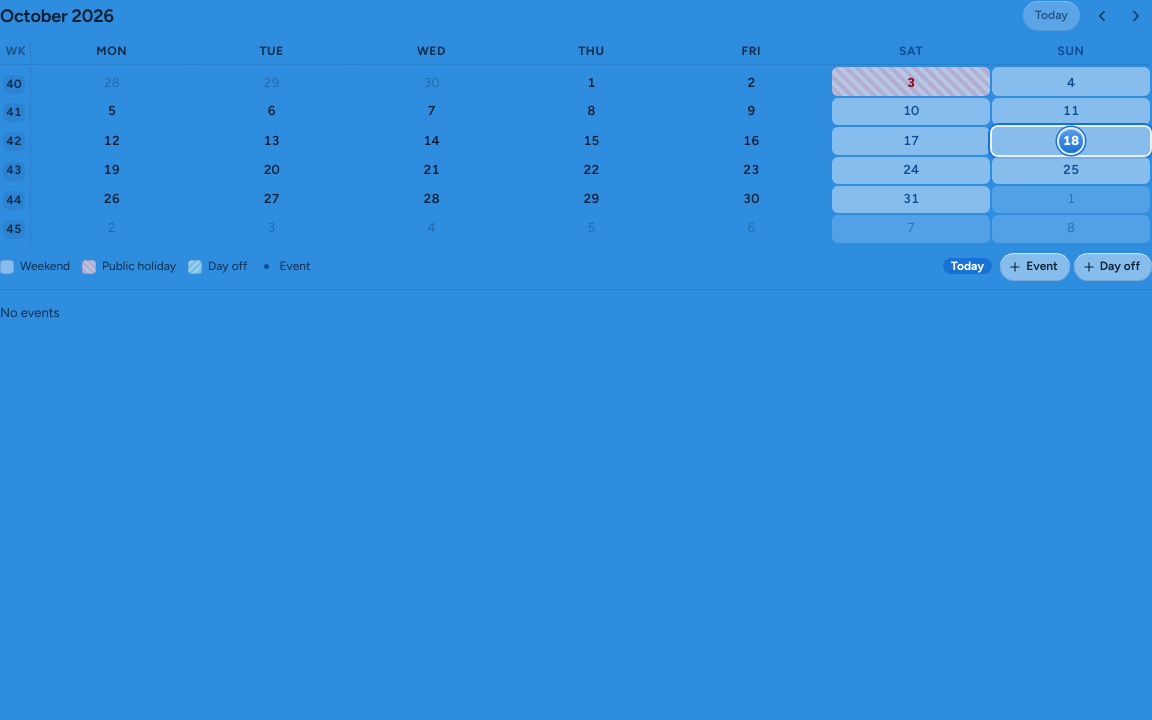
Test case: Kalender › legt per Enter einen Termin am gewählten Tag an
Press Arrowright Arrowright Arrowright {Ent
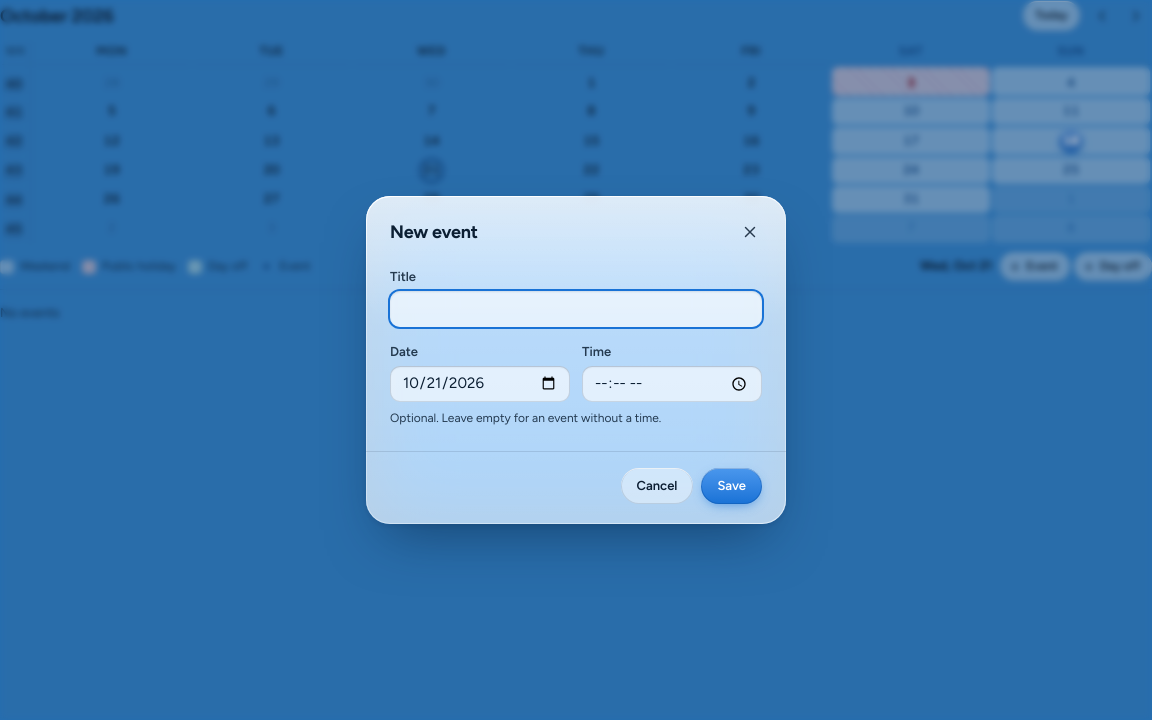
expect the date field labelled "Date" holds "2026-10-21": met, box [390, 366, 570, 402]
# Ohne Titel wird nicht gespeichert
Click the button "Save". click: click(732, 486)
box: [701, 468, 762, 504]
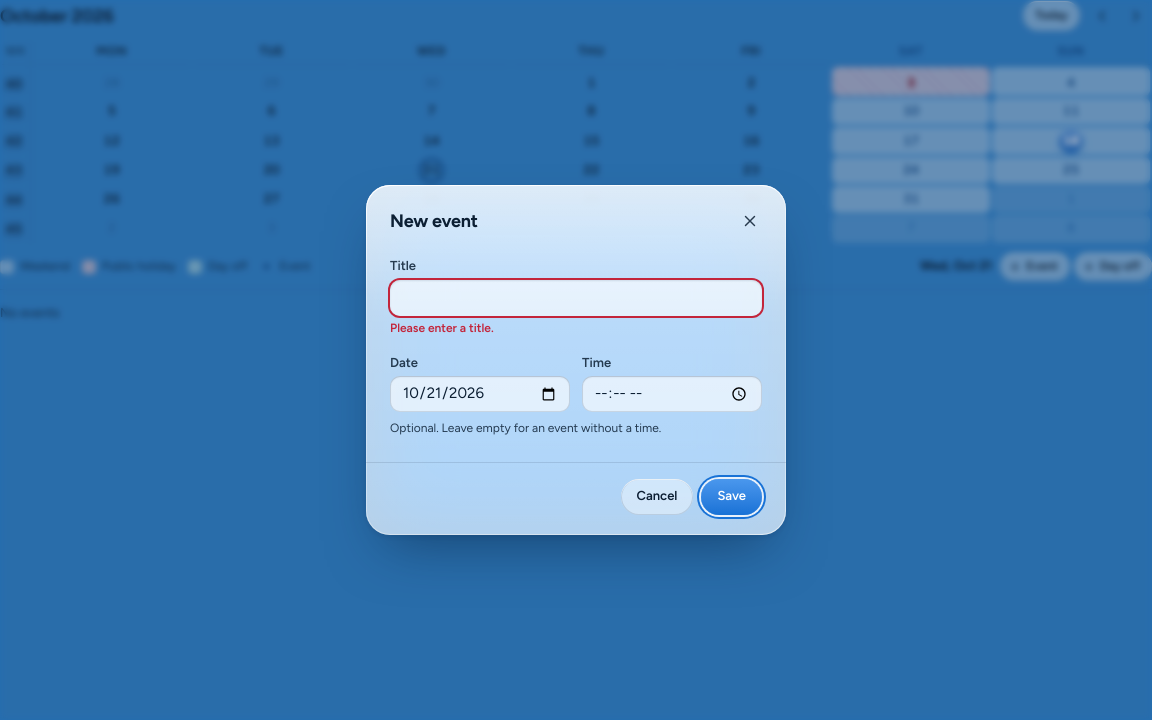
expect the text "Please enter a title." is shown: met, box [390, 321, 494, 335]
Type "Zahnarzt" into the field labelled "Title". click: (576, 298)
box: [390, 280, 762, 316]
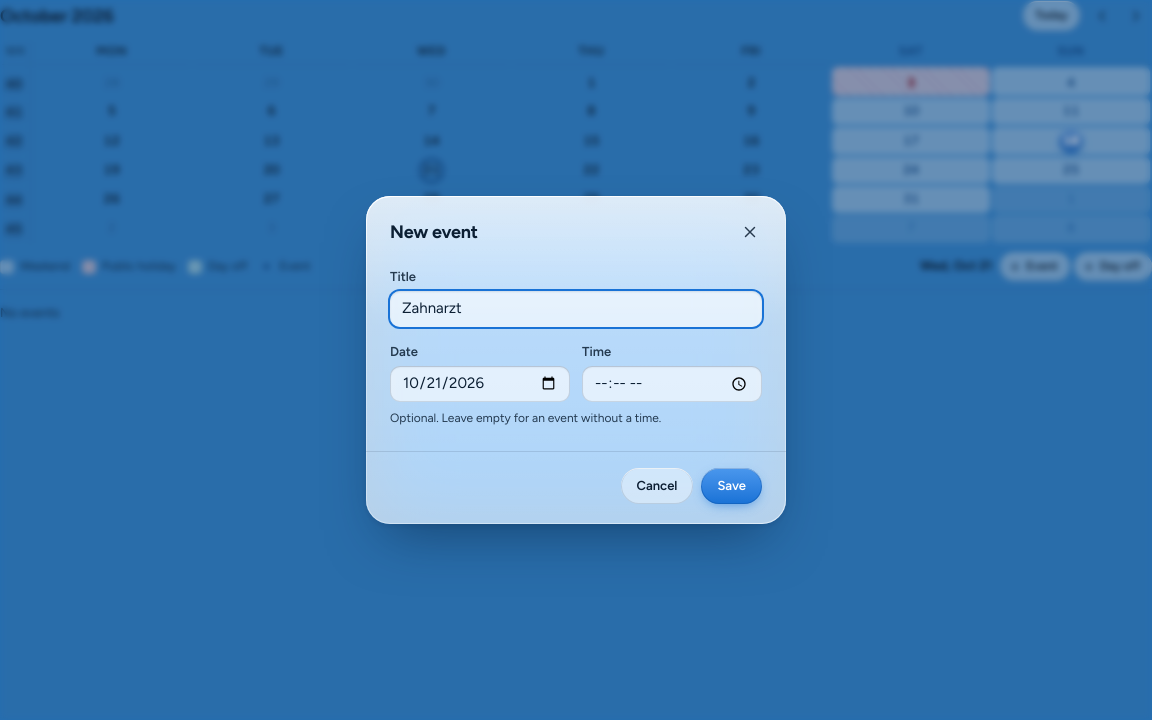
Click the button "Save". click: click(732, 486)
box: [701, 468, 762, 504]
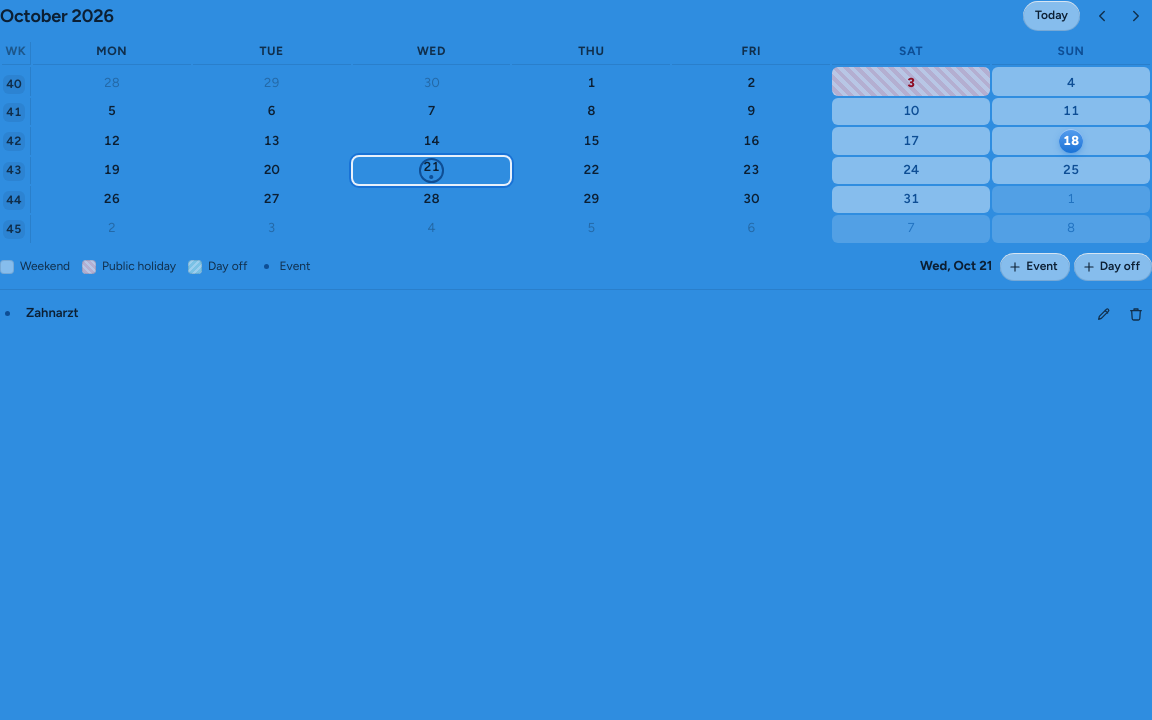
expect the element with class "dots" is shown: met, box [430, 175, 433, 179]
expect the text "Zahnarzt" is shown: met, box [26, 305, 79, 320]
